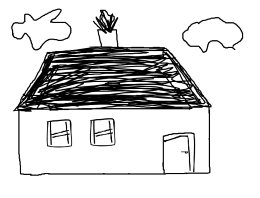closed_window: (88, 116, 120, 150), (44, 118, 73, 153)
clouds: (176, 8, 250, 54), (6, 2, 75, 49)
door: (158, 128, 200, 177)
shaded_roof: (7, 43, 217, 112)
smoking_chimney: (89, 4, 132, 55)
wall: (10, 105, 220, 179)
